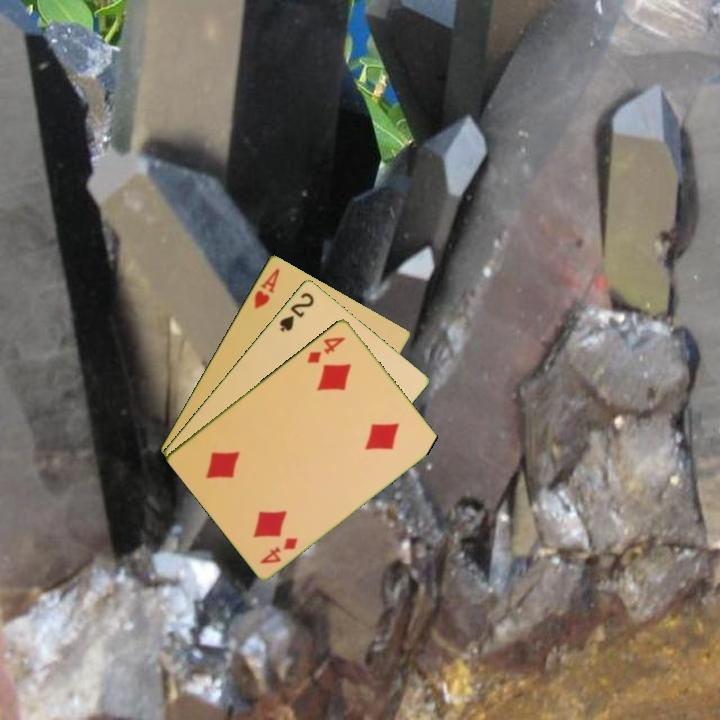2s: (276, 288, 317, 335)
4d: (256, 533, 301, 567), (303, 333, 348, 366)
Ah: (250, 264, 283, 312)
